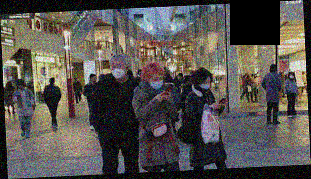with_mask: (110, 61, 128, 79), (148, 75, 165, 90), (199, 79, 212, 90), (288, 73, 295, 78), (74, 78, 78, 81)
without_mask: (91, 75, 98, 82), (176, 75, 183, 81), (17, 83, 24, 88)
